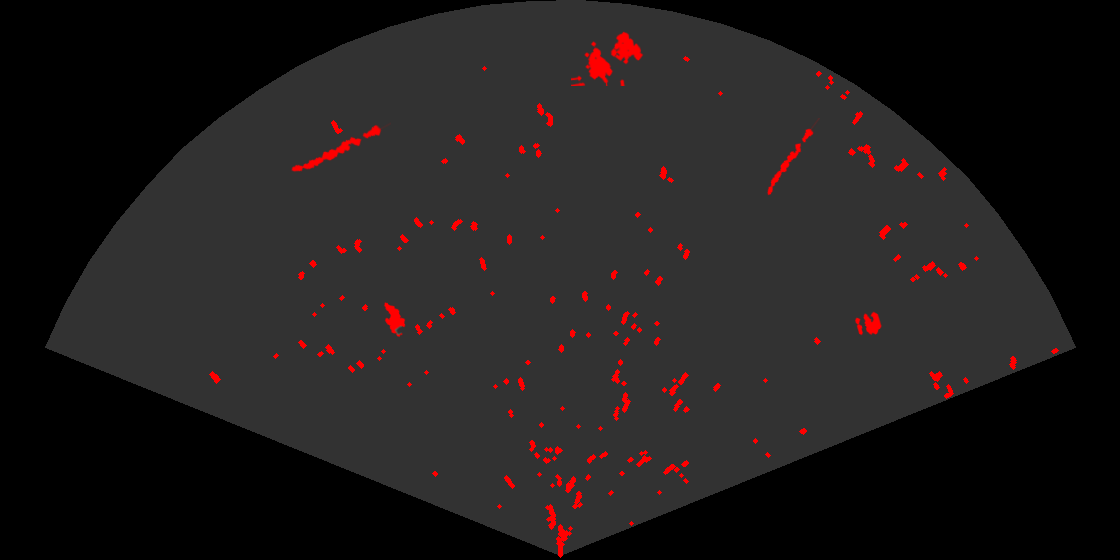AUV: (382, 300, 407, 339)
ball: (854, 310, 883, 337)
cage: (571, 30, 645, 86)
chain: (290, 121, 391, 174), (766, 118, 820, 197)
